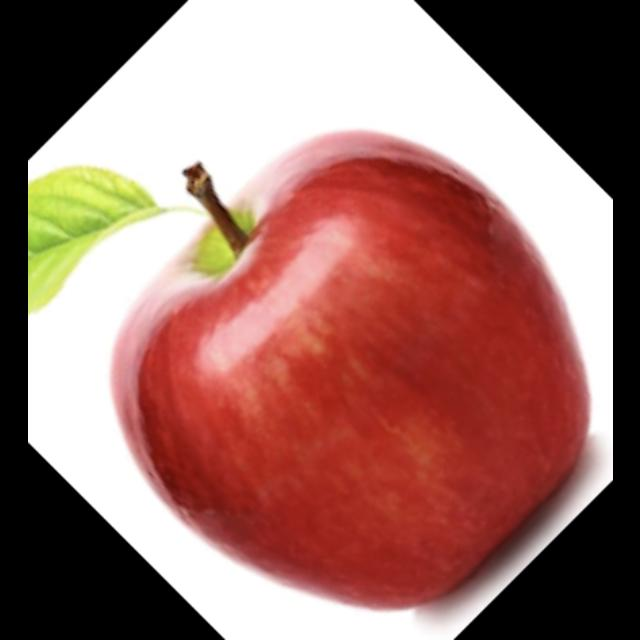Apel Segar: (111, 127, 606, 617)
